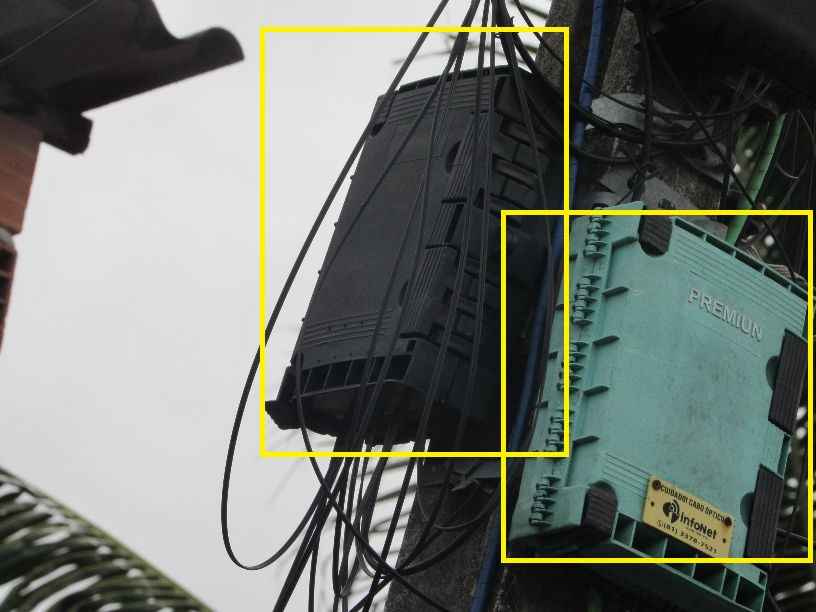caixa_derivacao: (519, 195, 802, 602), (269, 61, 561, 428)
